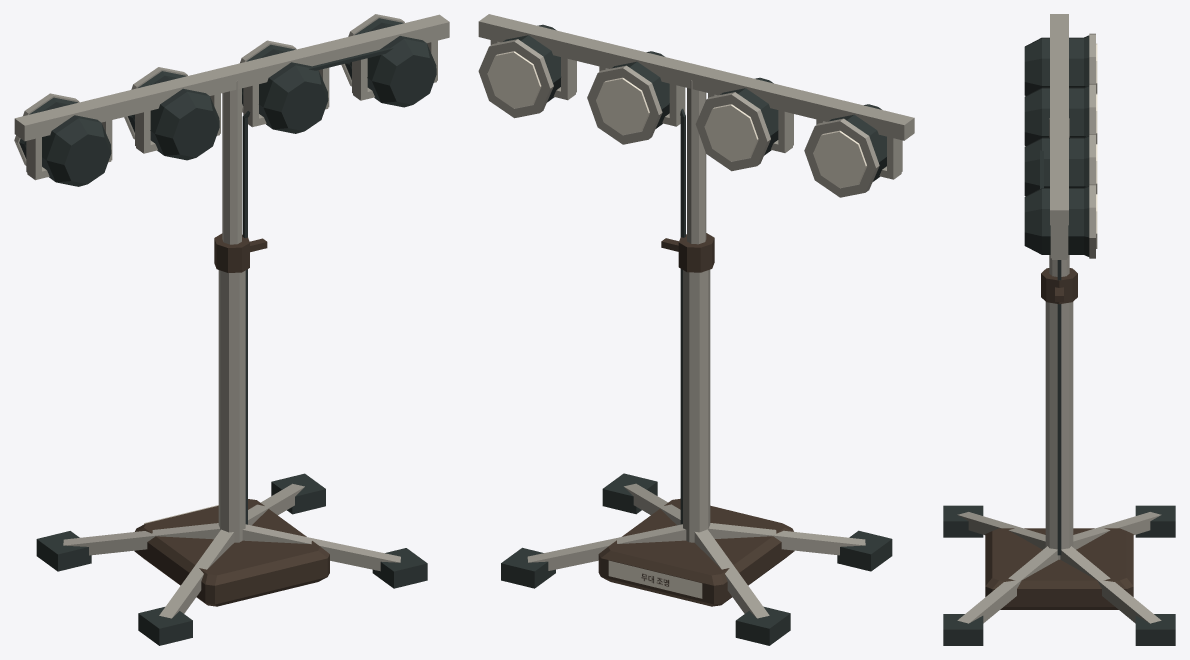
File: P01_Outdoor_Lighting_Tower.fbx
3 views of the same model, side by side, from view 1: azimuth 30°, elevation 25°; view 2: azimuth 150°, elevation 25°; view 3: azimuth 270°, elevation 25° (orthographic). The views are drawn at different scales.
Parts seen in each view (by area): view 1: Structure, Lamp_01, Lamp_02, Lamp_04, Lamp_03; view 2: Structure, Lamp_01, Lamp_04, Lamp_02, Lamp_03, Lens_02, Lens_04, Lens_01, Lens_03, Front_Label; view 3: Structure, Lamp_04, Lamp_02, Lamp_01, Lamp_03.
Boxes of the visible parts, x1=… form: Structure: x1=14, y1=14, x2=449, y2=645; Lamp_01: x1=14, y1=93, x2=112, y2=186; Lamp_02: x1=124, y1=67, x2=220, y2=160; Lamp_04: x1=341, y1=14, x2=437, y2=107; Lamp_03: x1=240, y1=40, x2=329, y2=133; Structure: x1=478, y1=14, x2=914, y2=645; Lamp_01: x1=804, y1=104, x2=902, y2=197; Lamp_04: x1=478, y1=24, x2=576, y2=118; Lamp_02: x1=695, y1=77, x2=793, y2=171; Lamp_03: x1=587, y1=51, x2=685, y2=144; Lens_02: x1=704, y1=104, x2=758, y2=161; Lens_04: x1=487, y1=51, x2=541, y2=108; Lens_01: x1=813, y1=130, x2=867, y2=187; Lens_03: x1=596, y1=77, x2=649, y2=134; Front_Label: x1=608, y1=560, x2=702, y2=598; Structure: x1=943, y1=14, x2=1175, y2=645; Lamp_04: x1=1024, y1=184, x2=1095, y2=259; Lamp_02: x1=1024, y1=83, x2=1095, y2=145; Lamp_01: x1=1024, y1=33, x2=1095, y2=95; Lamp_03: x1=1024, y1=134, x2=1095, y2=196.
Size of the model in its own units: 3.2 by 3.6 by 1.6.
5 materials, 1 textured.
